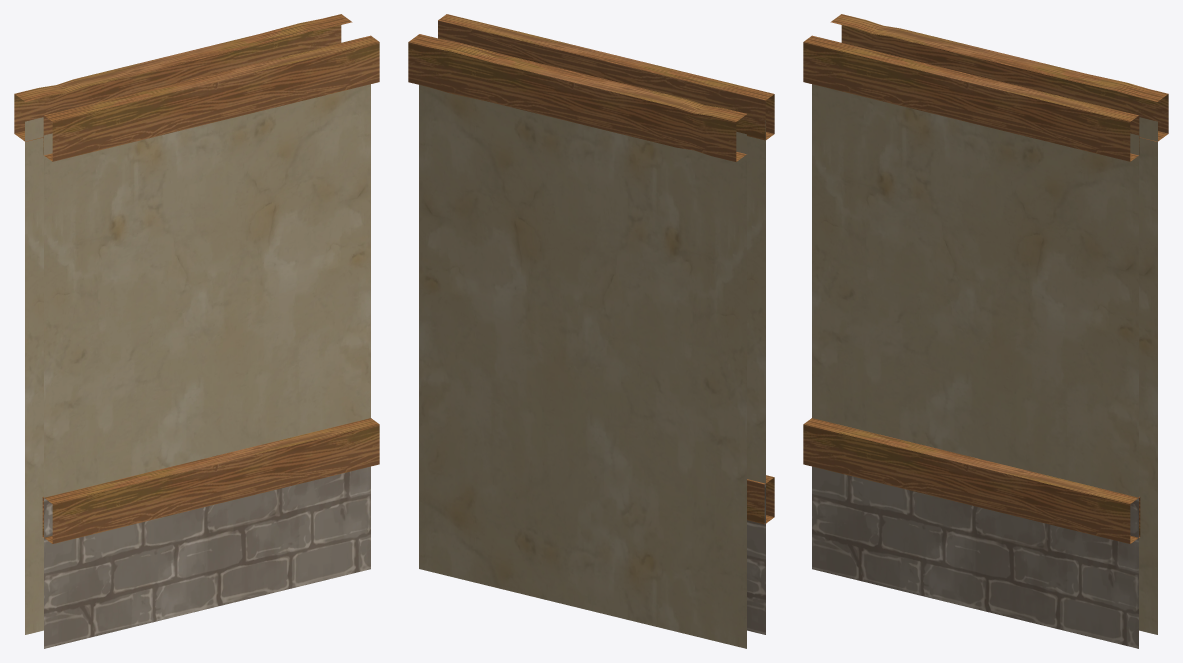
File: Wall_Plaster_Straight_Base.gltf
The picture shows the model from 3 angles, left to right: view 1: azimuth 30°, elevation 25°; view 2: azimuth 150°, elevation 25°; view 3: azimuth 330°, elevation 25°; orthographic projection.
Parts seen in each view (by area): view 1: Wall_Plaster_Straight_Base; view 2: Wall_Plaster_Straight_Base; view 3: Wall_Plaster_Straight_Base.
Part boxes in pixels (<box>): Wall_Plaster_Straight_Base: <box>14,14,379,648</box>; Wall_Plaster_Straight_Base: <box>408,14,774,648</box>; Wall_Plaster_Straight_Base: <box>803,14,1168,648</box>.
Bounding box in the file's own units: 2 × 3.12 × 0.4065.
Materials: 3 (3 with a texture image).
